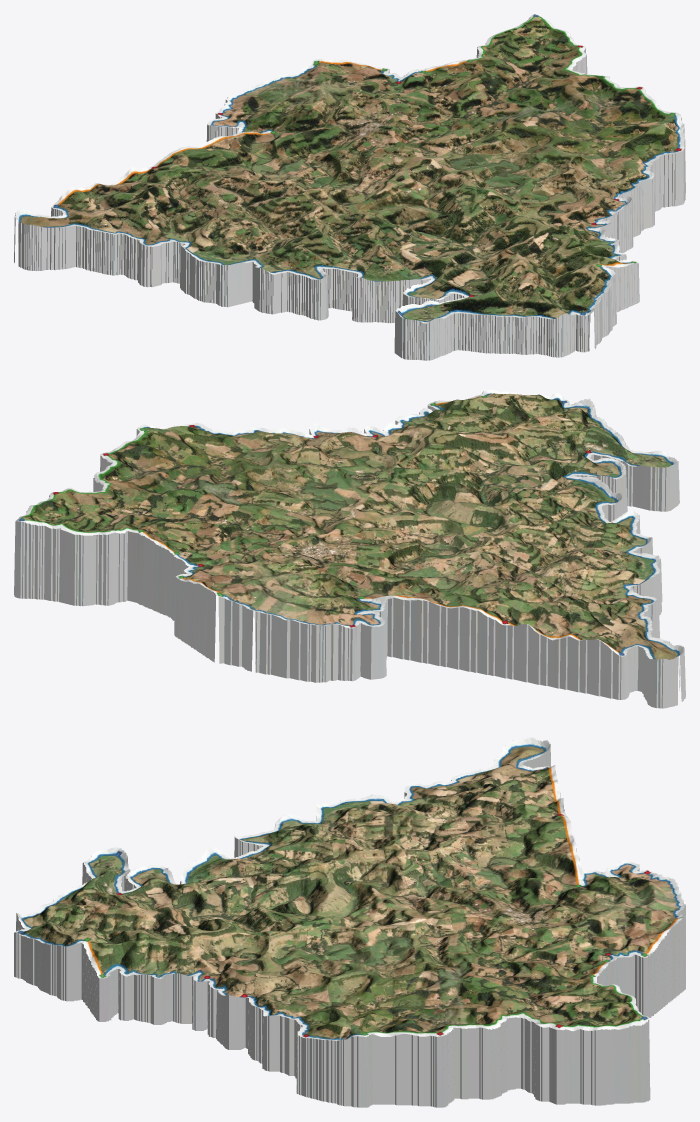
The picture shows the model from 3 angles, top to bottom: view 1: azimuth 30°, elevation 25°; view 2: azimuth 150°, elevation 25°; view 3: azimuth 270°, elevation 25°; orthographic projection. The views are drawn at different scales.
Size of the model in its own units: 1 by 0.1175 by 0.8895.
1 material, 1 textured.
